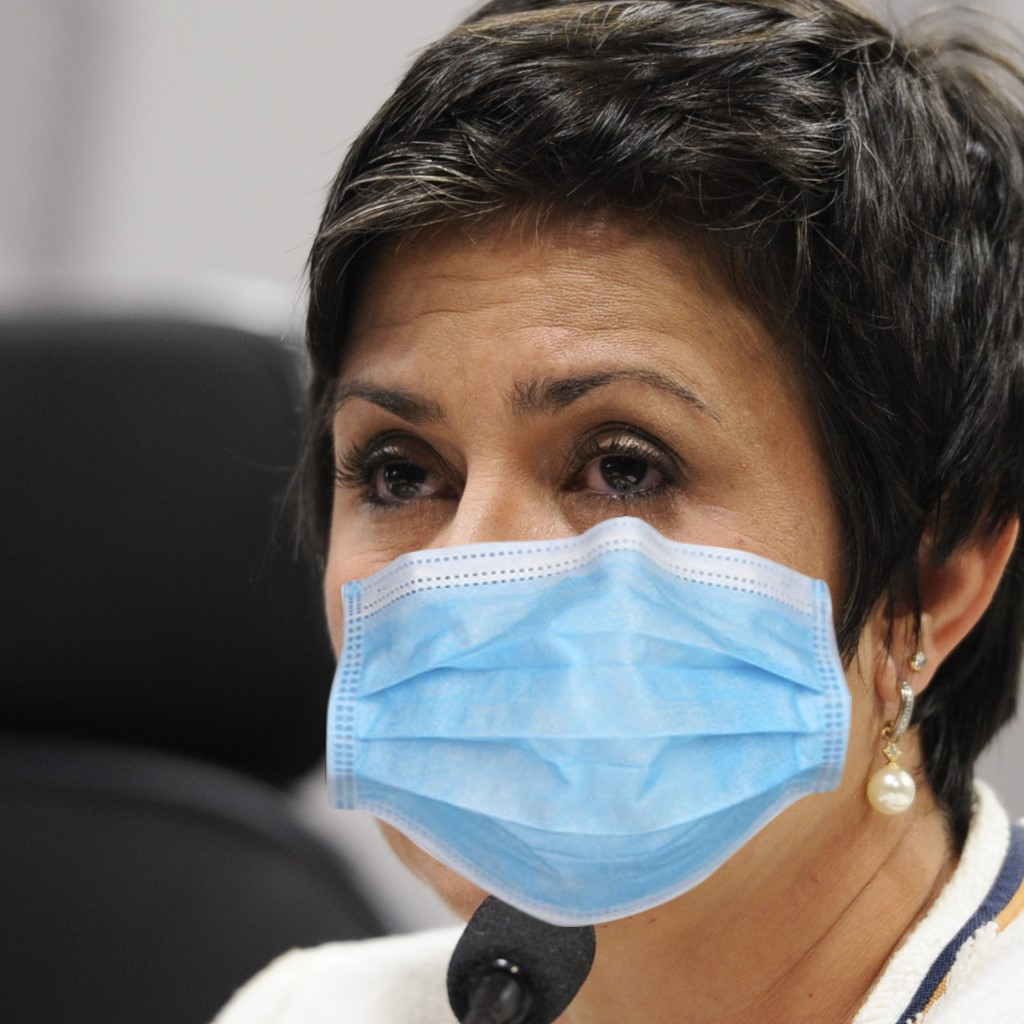con_mascara: (324, 189, 864, 941)
